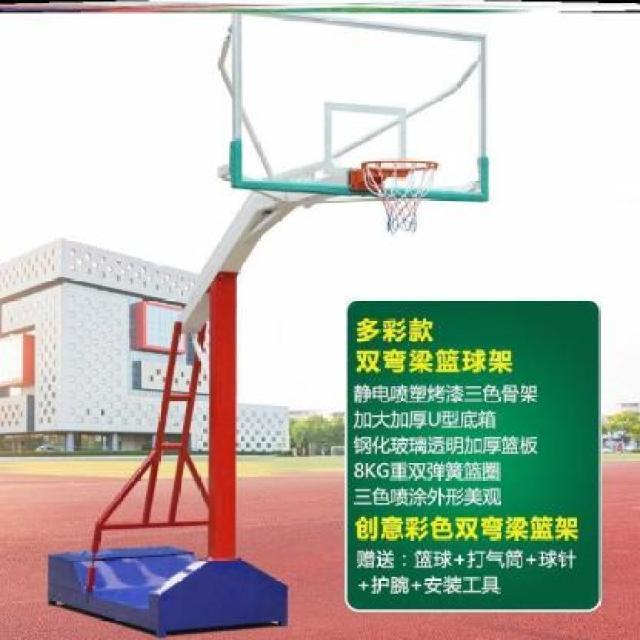rim: (362, 156, 440, 236)
